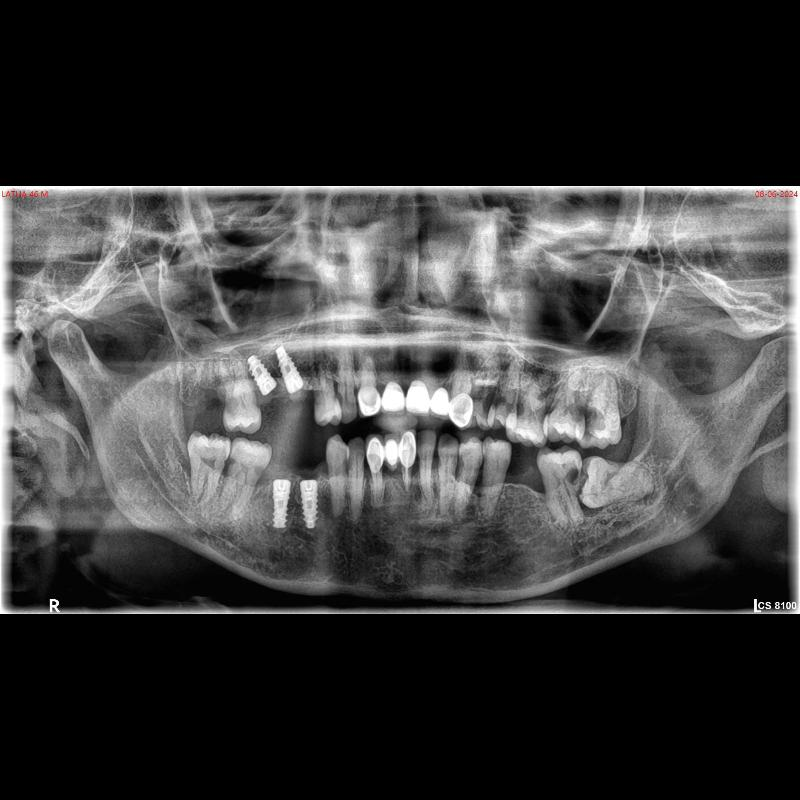NORIS: (274, 341, 306, 396), (246, 353, 279, 398), (272, 476, 292, 532), (300, 478, 320, 532)
